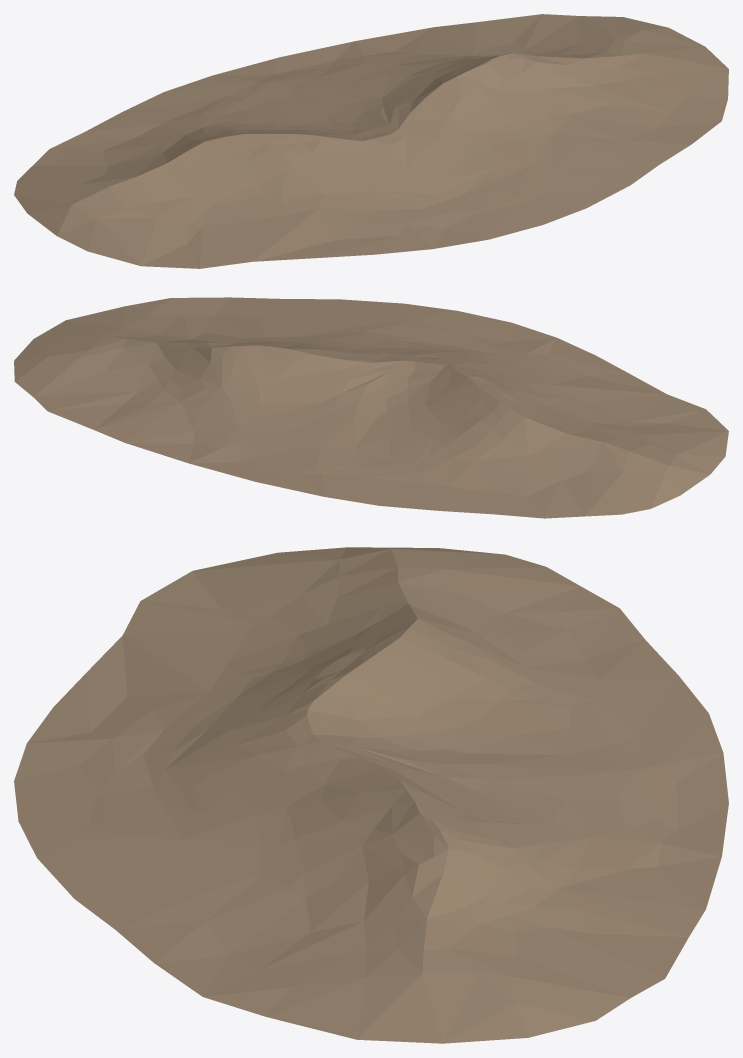
The model's file is SM_Env_SandDunes_03.fbx.
3 renders of one model, top to bottom at view 1: azimuth 30°, elevation 25°; view 2: azimuth 150°, elevation 25°; view 3: azimuth 270°, elevation 25°, orthographic. The views are drawn at different scales.
Parts seen in each view (by area): view 1: SM_Env_SandDunes_03; view 2: SM_Env_SandDunes_03; view 3: SM_Env_SandDunes_03.
Part boxes in pixels (x1=…): SM_Env_SandDunes_03: x1=14, y1=14, x2=728, y2=268; SM_Env_SandDunes_03: x1=14, y1=297, x2=728, y2=518; SM_Env_SandDunes_03: x1=14, y1=547, x2=728, y2=1043.
Bounding box in the file's own units: 11595 × 721 × 7058.
